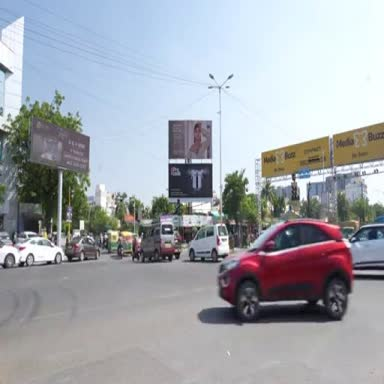Car: (218, 219, 353, 322), (188, 224, 230, 262), (350, 224, 383, 268), (15, 237, 62, 266), (141, 222, 175, 262), (65, 236, 100, 261), (0, 240, 20, 267), (174, 230, 182, 259), (18, 231, 38, 242), (0, 232, 13, 245)
